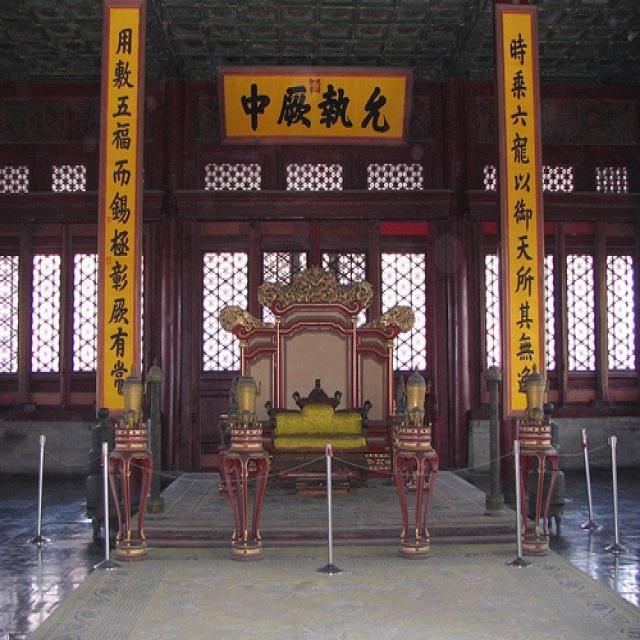sofa: (268, 382, 377, 485)
